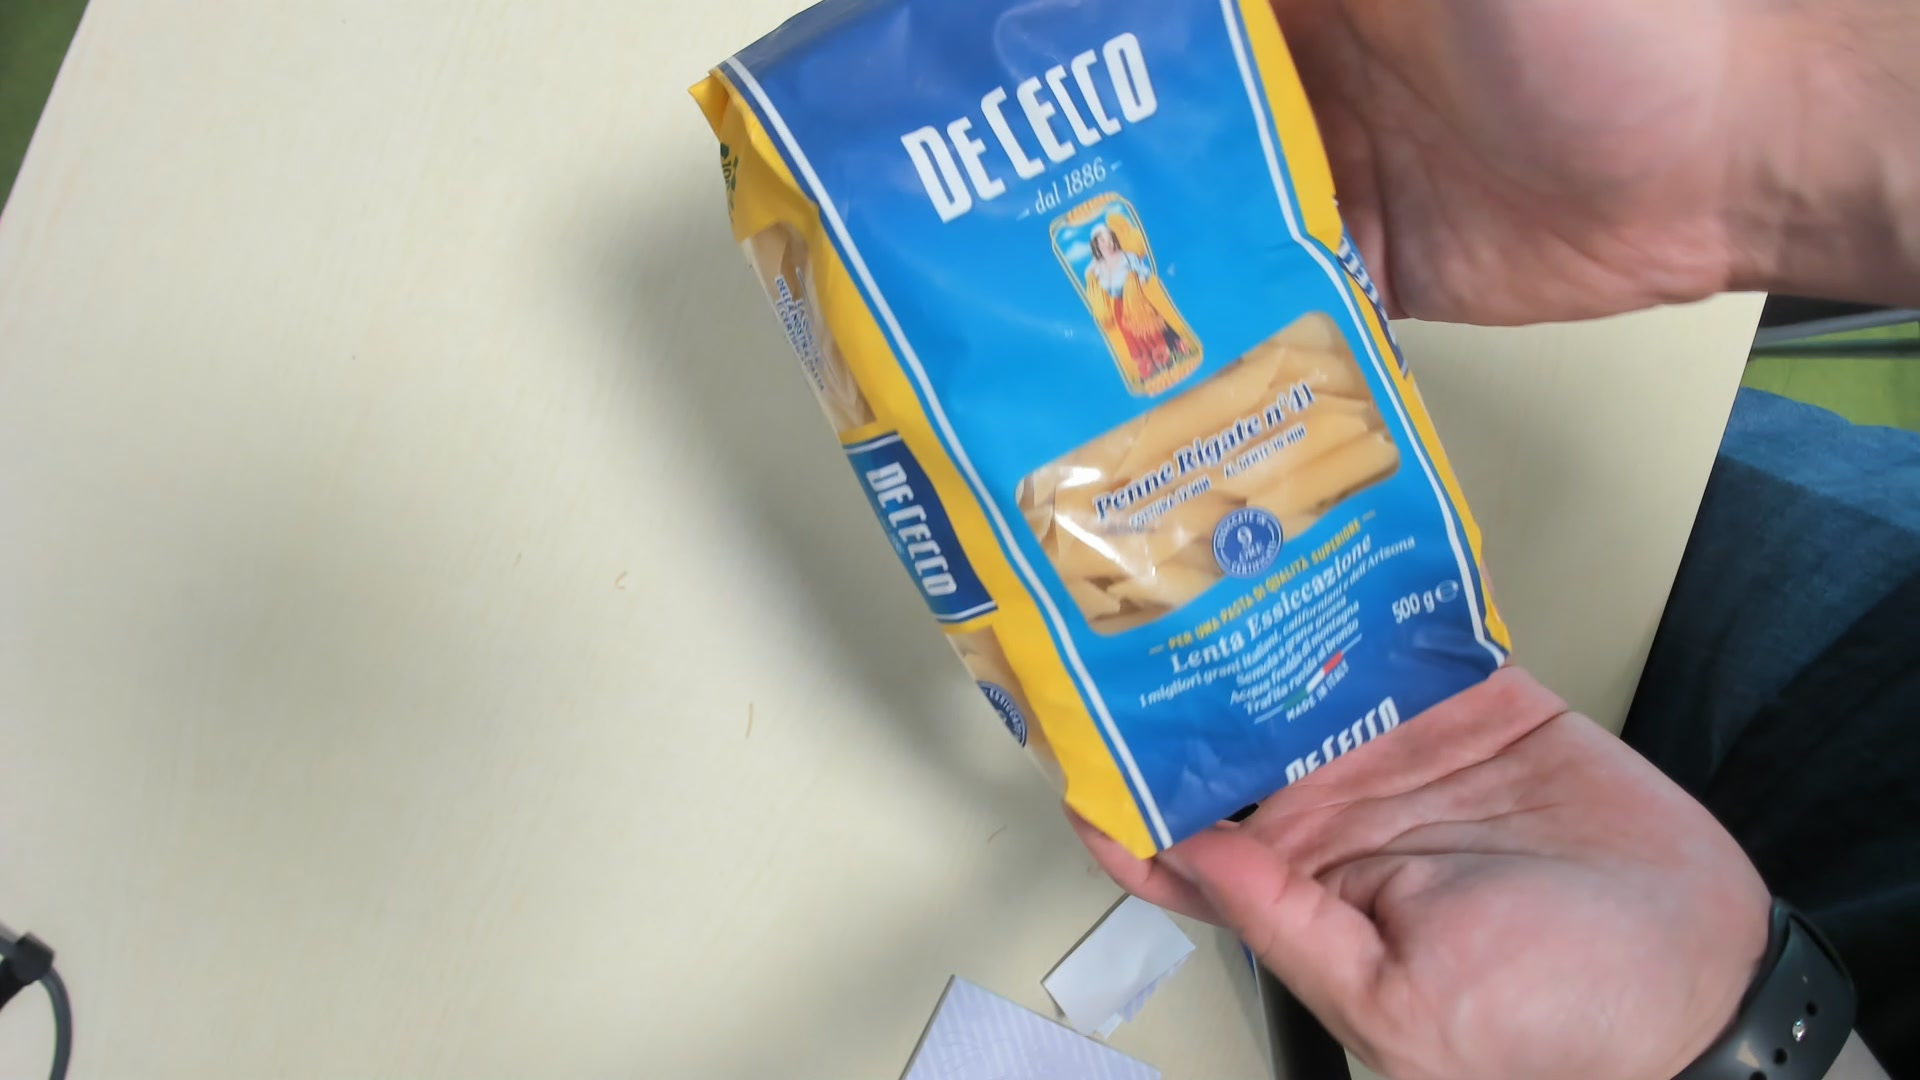Pasta_500-599g_NonHalal_NonHealthy: (687, 7, 1509, 855)
